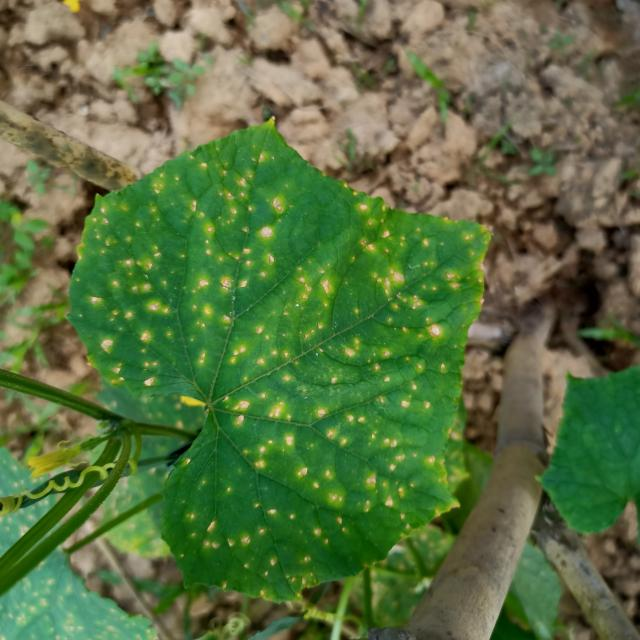disease_cucumber: (79, 153, 471, 585)
